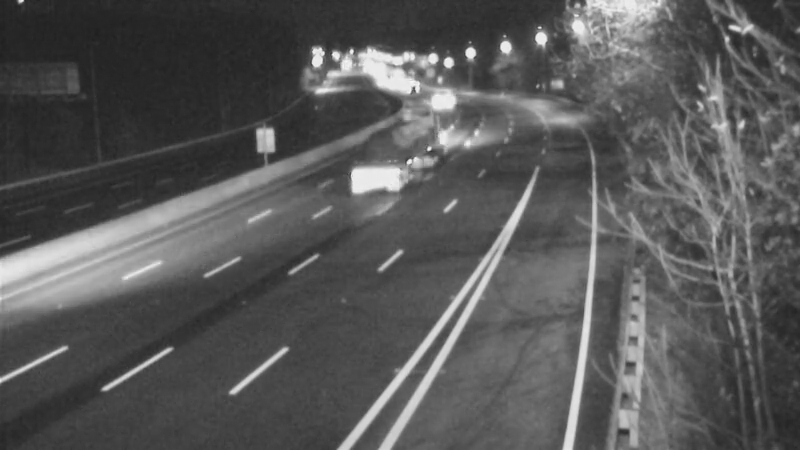vehicle: (352, 114, 432, 194), (389, 63, 439, 113), (416, 76, 466, 126)
